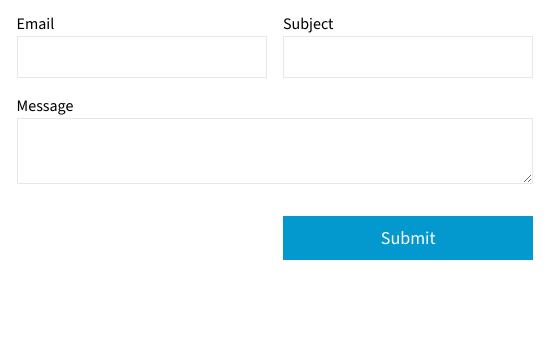
Test: ContactForm › should display an error message when postContact result is not OK and does not contain validation
The width and height of the screenshot is (550, 362).
Step 1. Type "foo@bar.com" into the field labelled "Email" → (142, 57), box [17,36,267,78]
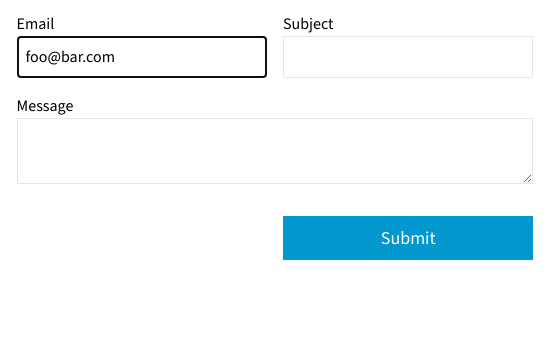
Step 2. Type "Test Subject" into the field labelled "Subject" → (408, 57), box [283,36,533,78]
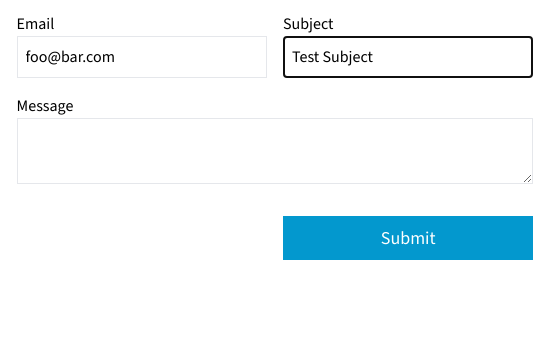
Step 3. Type "Test message, please ignore." into the text box labelled "Message" → (275, 151), box [17,118,534,184]
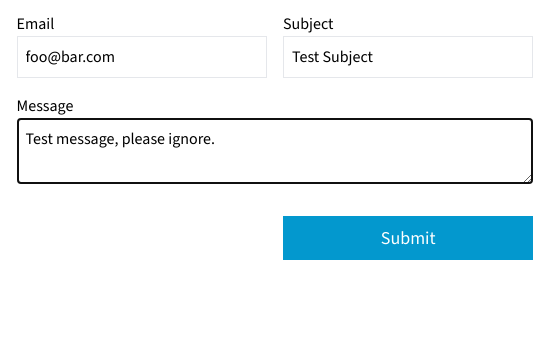
Step 4. Click the button "Submit" → (408, 238), box [283,216,533,260]
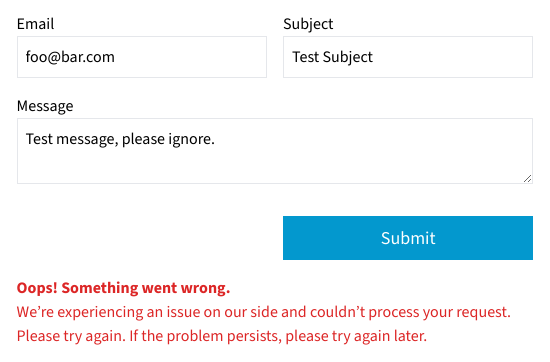
Expected: the message shows "Oops! Something went wrong.", [17,277,230,298]
